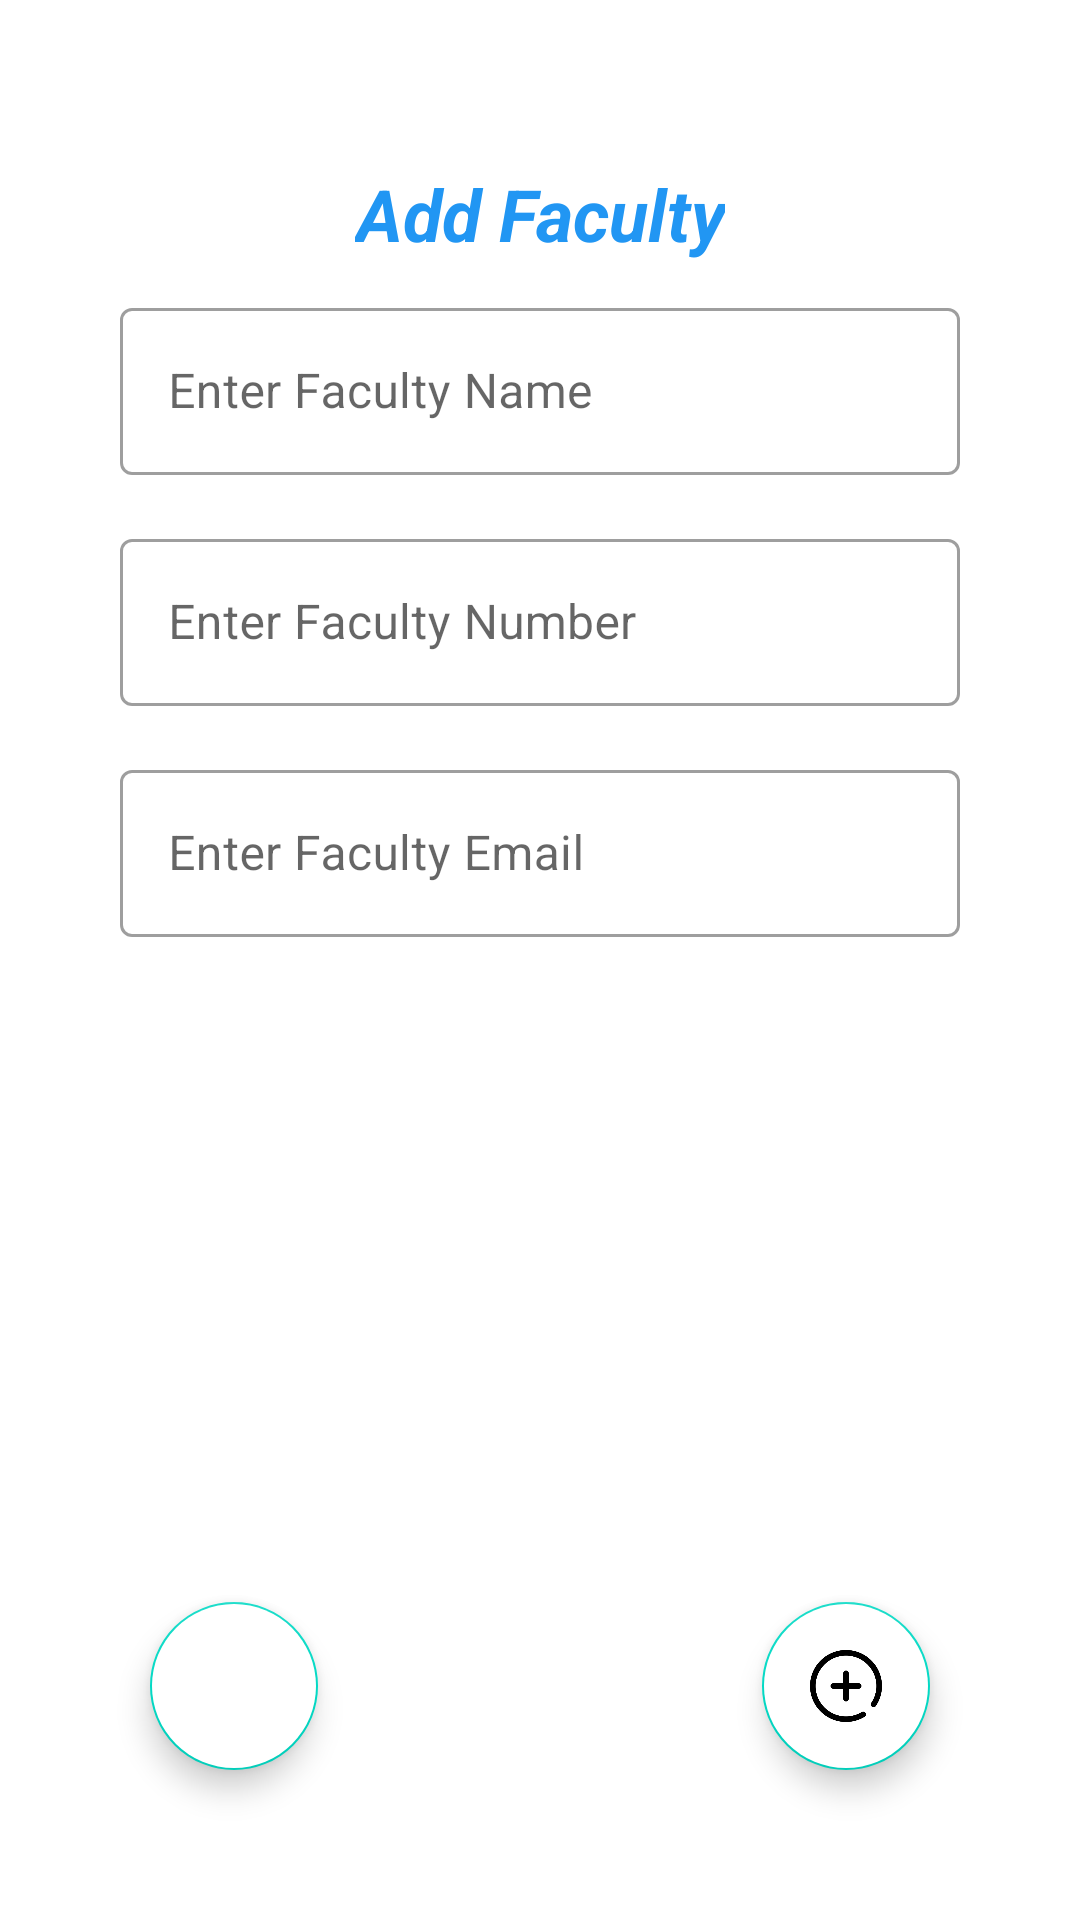

Named icons in this screenshot (1080 x 1920) and their centers, [x,y]:
plus: [846,1686]
